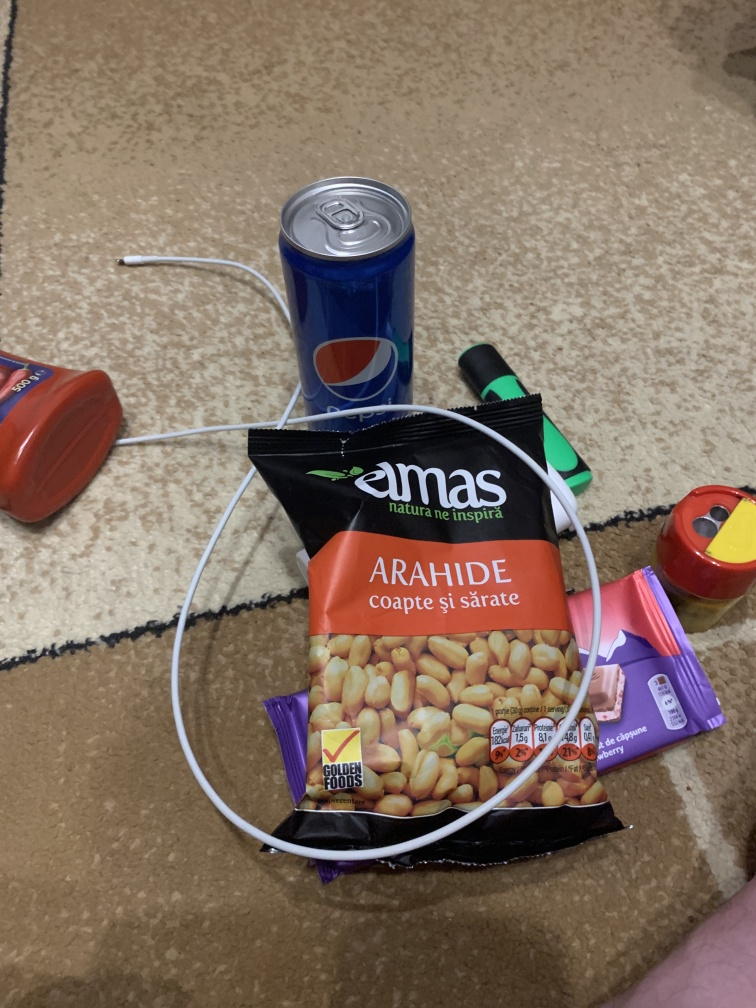milka: (556, 565, 730, 780)
peanuts: (252, 397, 633, 859)
pepsi: (275, 170, 422, 421)
